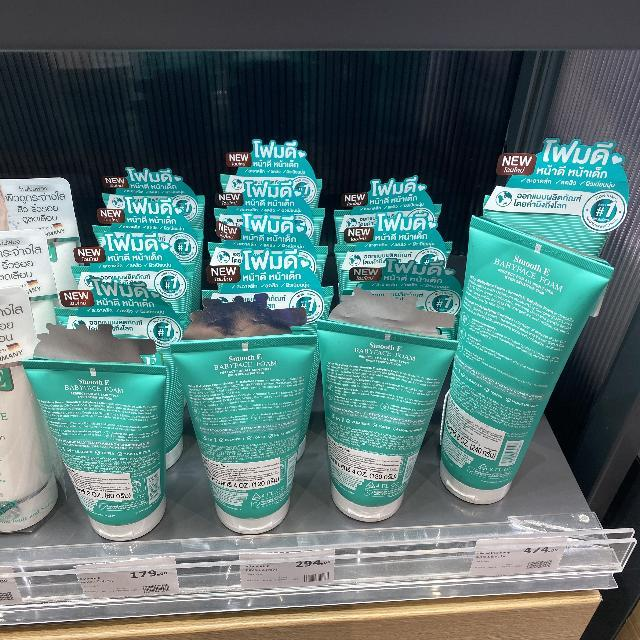Squeeze Tube: (53, 123, 635, 557)
